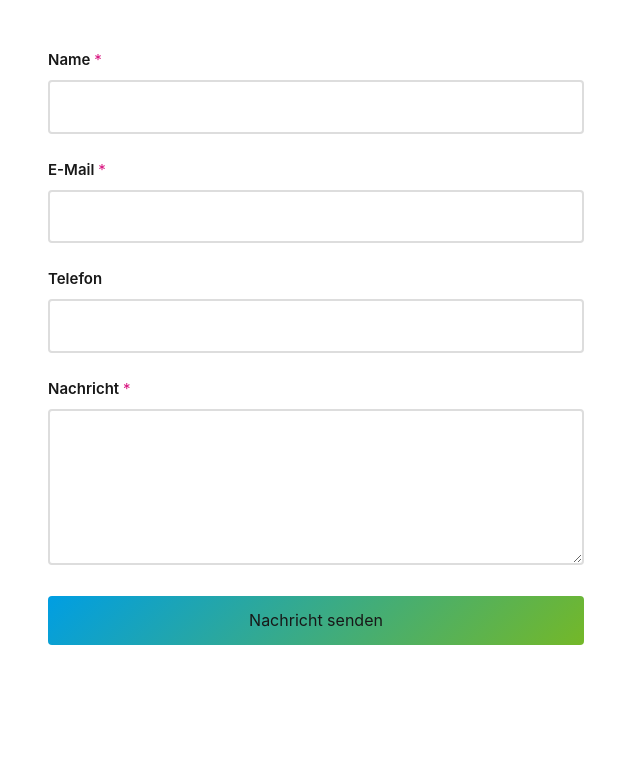
it: ContactForm › Formularübermittlung › zeigt Fehlermeldung bei Server-Fehler (HTTP 500)
Type "Maria Musterfrau" into the field with id "name" at (316, 107), box [48,80,584,134]
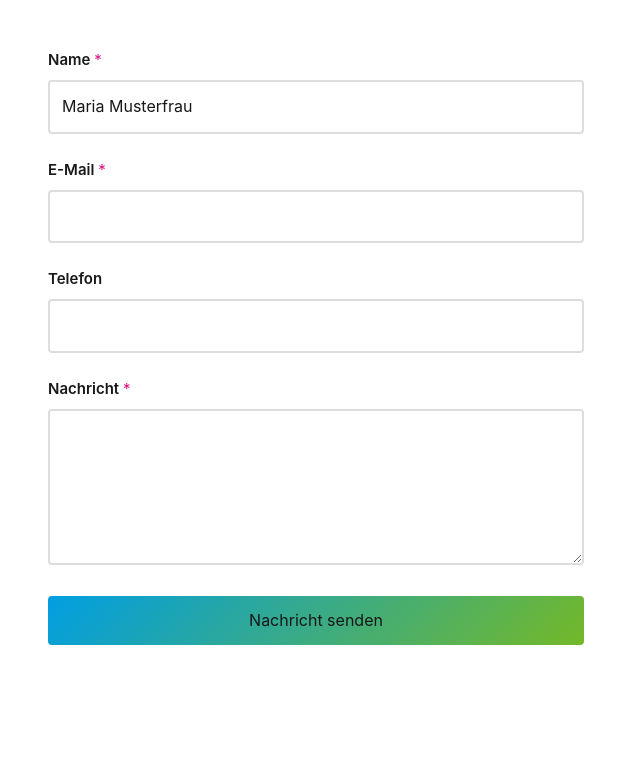
Type "maria@example.com" into the field with id "email" at (316, 216), box [48,190,584,243]
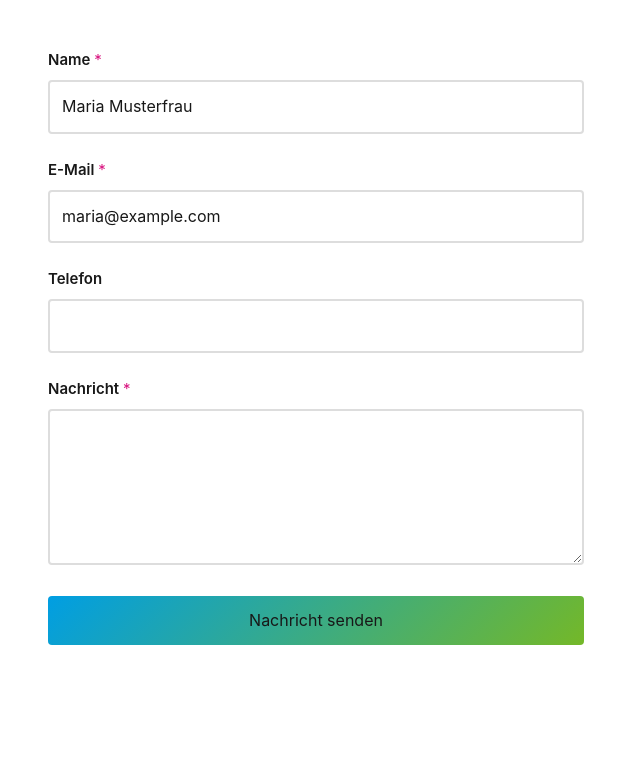
Type "Das ist eine ausreichend lange Testnachricht." into the text box with id "message" at (316, 487), box [48,409,584,565]
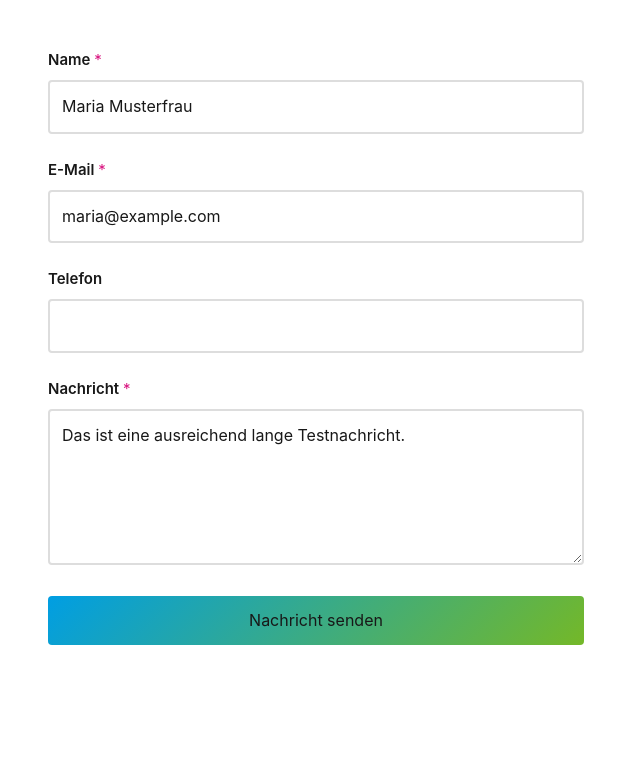
Submit the form
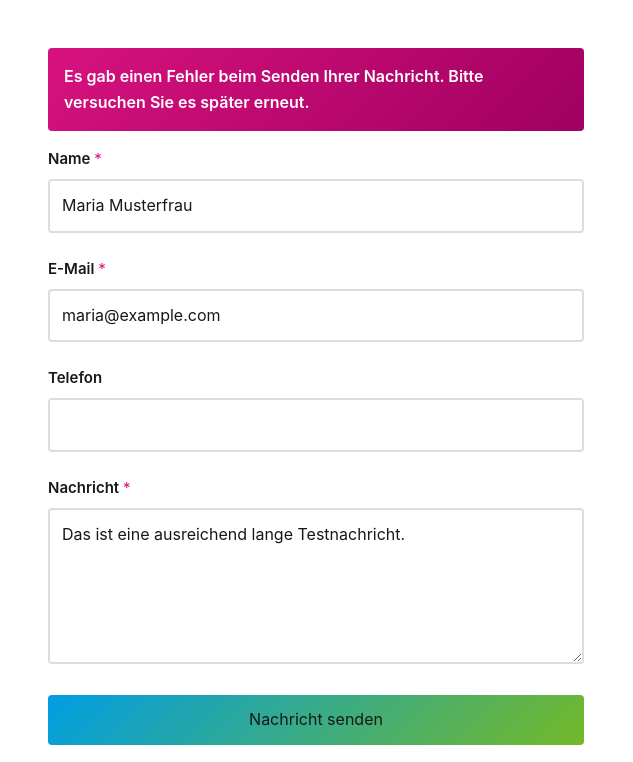
expect the message is shown: met, box [48,48,584,131]
expect the message shows "Fehler": met, box [64,66,484,112]
